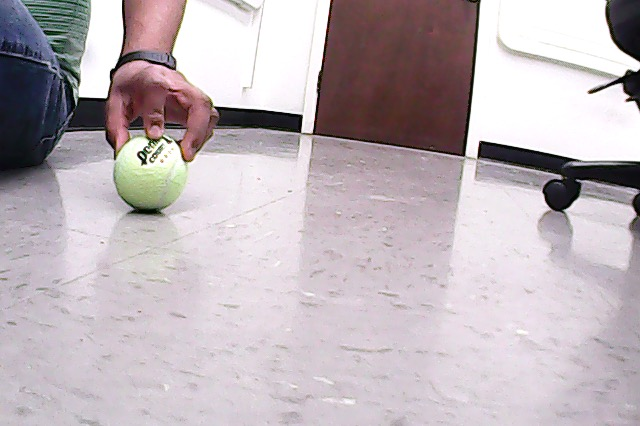ball: (112, 132, 191, 213)
